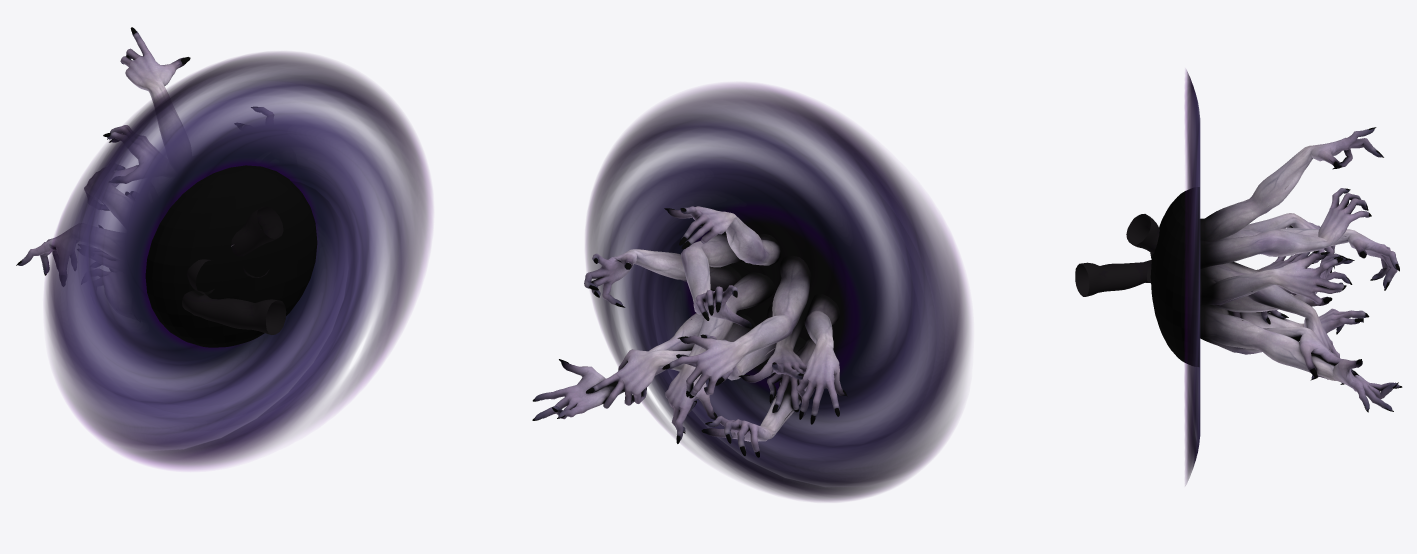
File: hand.glb
3 renders of one model, left to right at view 1: azimuth 30°, elevation 25°; view 2: azimuth 150°, elevation 25°; view 3: azimuth 270°, elevation 25°, orthographic. The views are drawn at different scales.
Visible parts, largest first — view 1: vortex, Sphere, arm_lowres.007, arm_lowres.001, arm_lowres.010, arm_lowres.004, arm_lowres.013, arm_lowres.005; view 2: vortex, arm_lowres.005, arm_lowres.010, arm_lowres.008, arm_lowres.013, arm_lowres.001, arm_lowres, arm_lowres.006, arm_lowres.011, arm_lowres.002, arm_lowres.004, arm_lowres.007 (+1 smaller); view 3: Sphere, vortex, arm_lowres.006, arm_lowres.001, arm_lowres.013, arm_lowres, arm_lowres.007, arm_lowres.008, arm_lowres.005, arm_lowres.004, arm_lowres.011, arm_lowres.002 (+2 smaller).
Part boxes in pixels (bbox=[...]): vortex: bbox=[45, 52, 431, 469]; Sphere: bbox=[145, 165, 317, 347]; arm_lowres.007: bbox=[182, 290, 286, 334]; arm_lowres.001: bbox=[120, 27, 190, 147]; arm_lowres.010: bbox=[16, 225, 214, 295]; arm_lowres.004: bbox=[97, 206, 283, 269]; arm_lowres.013: bbox=[103, 125, 158, 183]; arm_lowres.005: bbox=[84, 165, 137, 222]; vortex: bbox=[585, 83, 970, 501]; arm_lowres.005: bbox=[662, 255, 811, 398]; arm_lowres.010: bbox=[796, 293, 847, 424]; arm_lowres.008: bbox=[665, 272, 774, 443]; arm_lowres.013: bbox=[681, 234, 753, 328]; arm_lowres.001: bbox=[664, 206, 781, 265]; arm_lowres: bbox=[584, 249, 741, 307]; arm_lowres.006: bbox=[532, 313, 736, 420]; arm_lowres.011: bbox=[586, 314, 755, 408]; arm_lowres.002: bbox=[701, 336, 807, 457]; arm_lowres.004: bbox=[738, 296, 811, 382]; arm_lowres.007: bbox=[767, 329, 834, 412]; Sphere: bbox=[1150, 187, 1199, 366]; vortex: bbox=[1185, 70, 1200, 485]; arm_lowres.006: bbox=[1200, 305, 1402, 412]; arm_lowres.001: bbox=[1199, 127, 1383, 242]; arm_lowres.013: bbox=[1200, 188, 1371, 269]; arm_lowres: bbox=[1200, 252, 1346, 305]; arm_lowres.007: bbox=[1075, 260, 1288, 324]; arm_lowres.008: bbox=[1200, 264, 1339, 380]; arm_lowres.005: bbox=[1220, 228, 1399, 290]; arm_lowres.004: bbox=[1126, 214, 1318, 295]; arm_lowres.011: bbox=[1200, 327, 1358, 384]; arm_lowres.002: bbox=[1202, 305, 1369, 334].
Size of the model in its own units: 2.02 by 2.02 by 1.26.
3 materials, 2 textured.
